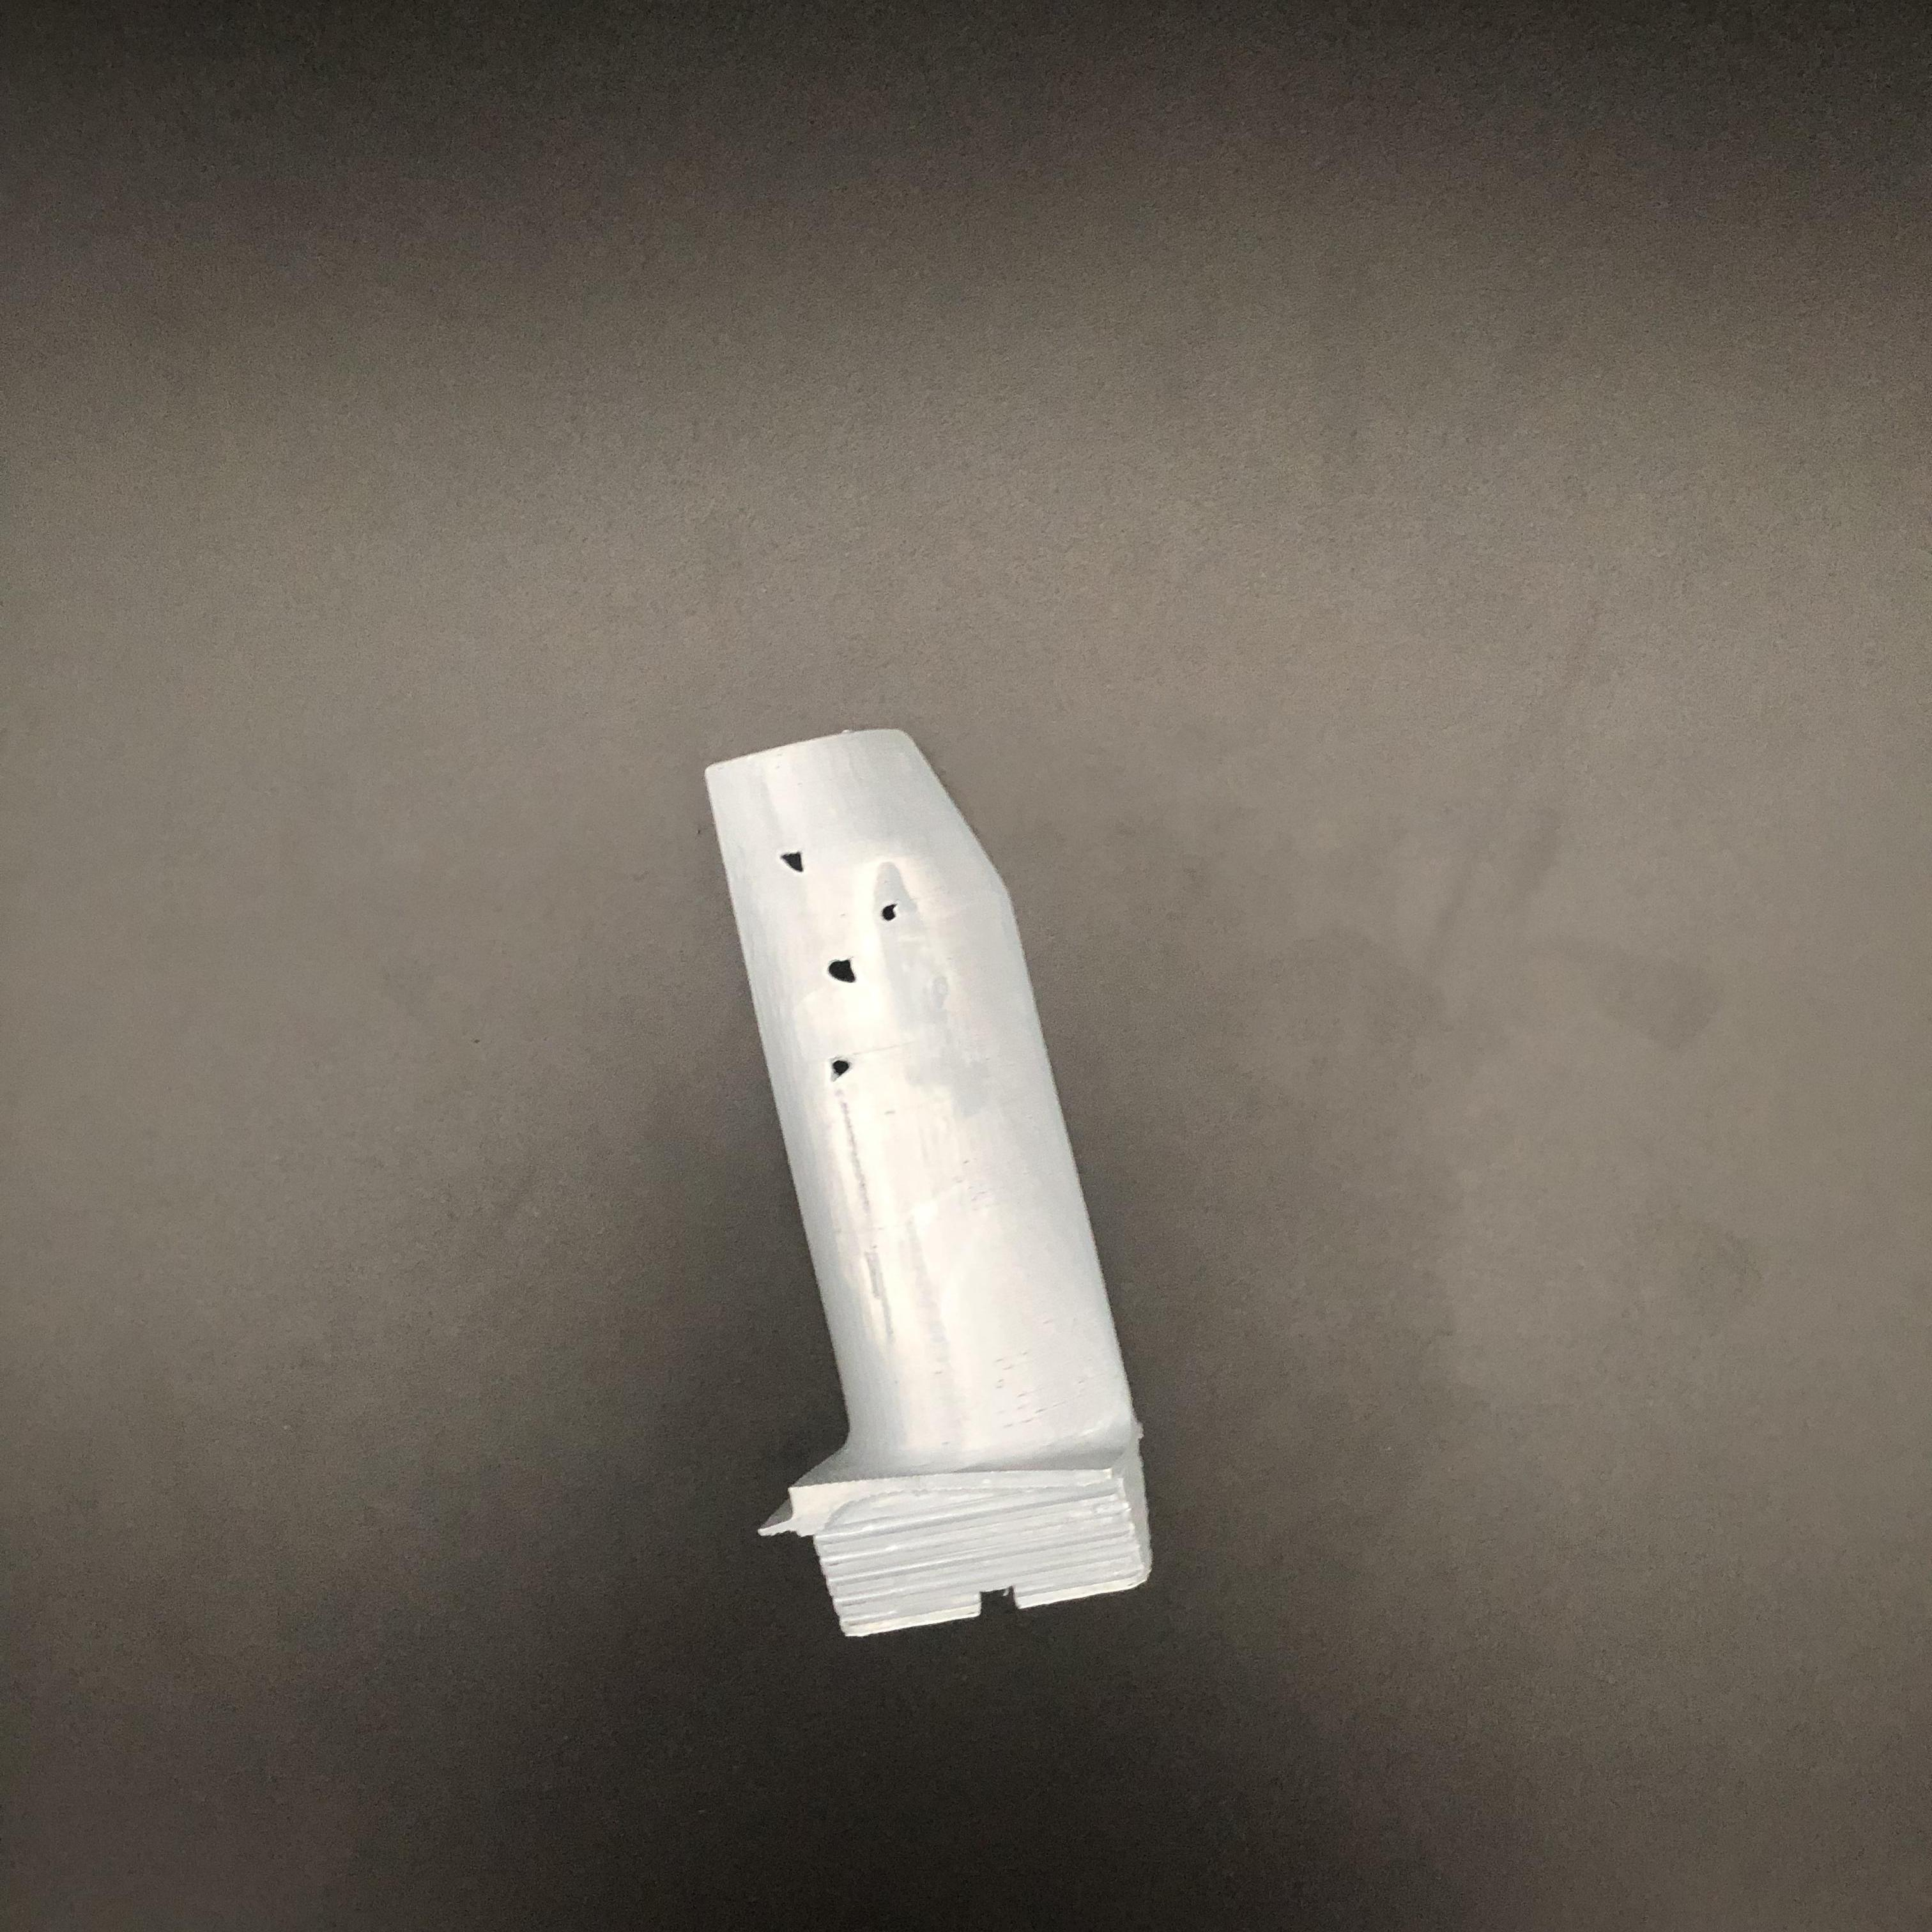breakdown: (777, 842, 902, 1092)
